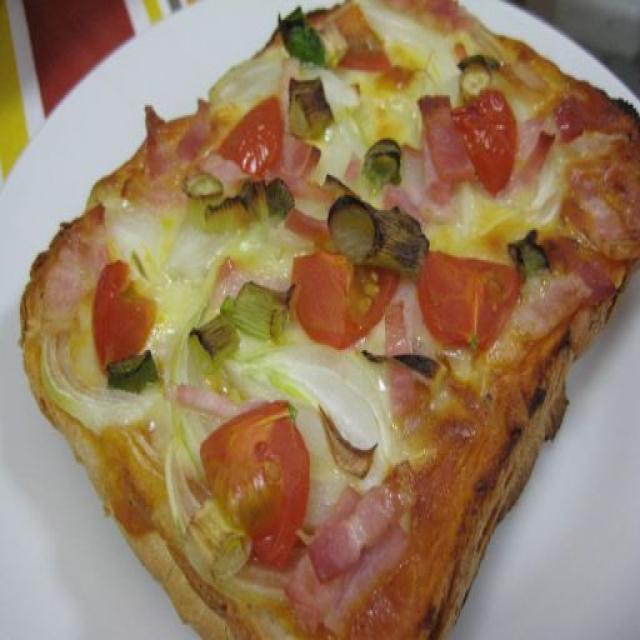面包点心: (4, 0, 636, 627)
